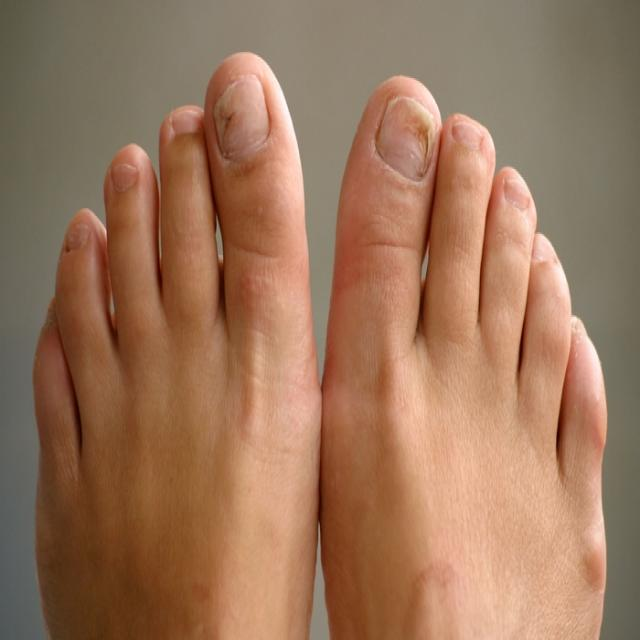tinea: (30, 15, 611, 514)
